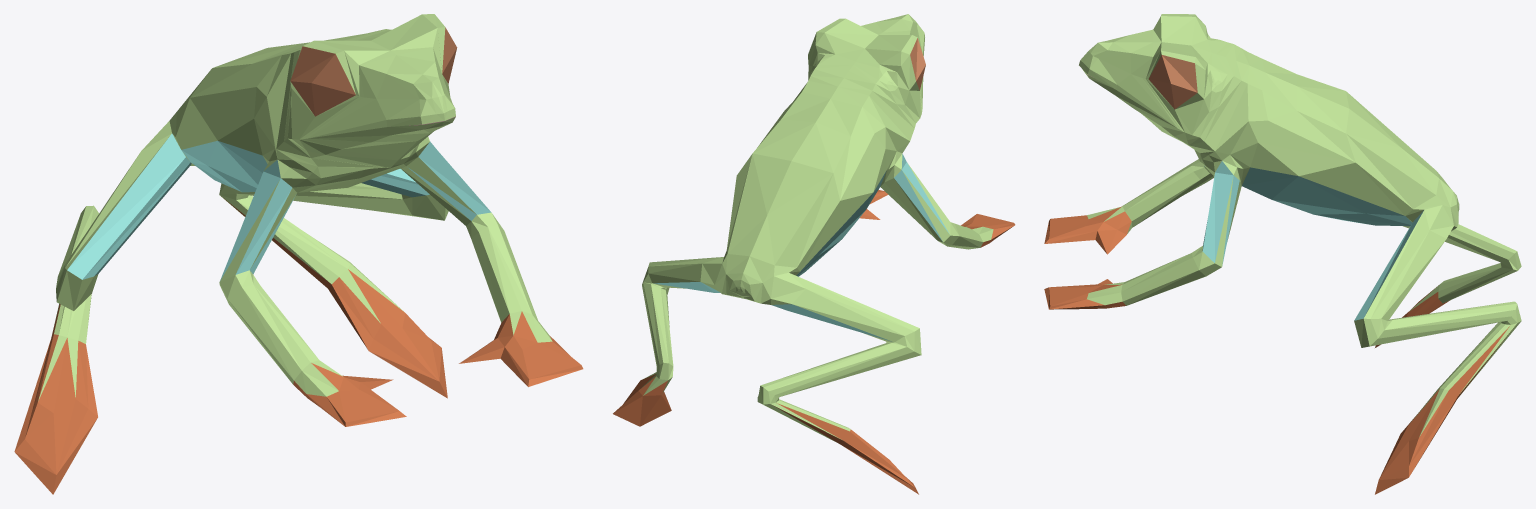
Rendered from quadruped_frog.gltf.
3 views of the same model, side by side, from view 1: azimuth 30°, elevation 25°; view 2: azimuth 150°, elevation 25°; view 3: azimuth 270°, elevation 25° (orthographic). The views are drawn at different scales.
Parts seen in each view (by area): view 1: frog_colorMap; view 2: frog_colorMap; view 3: frog_colorMap.
Boxes of the visible parts, box(x1,y1,x2,y2) form: frog_colorMap: box(14, 14, 583, 494); frog_colorMap: box(613, 14, 1015, 494); frog_colorMap: box(1044, 14, 1521, 494).
Bounding box in the file's own units: 37.28 × 42.53 × 47.37.
